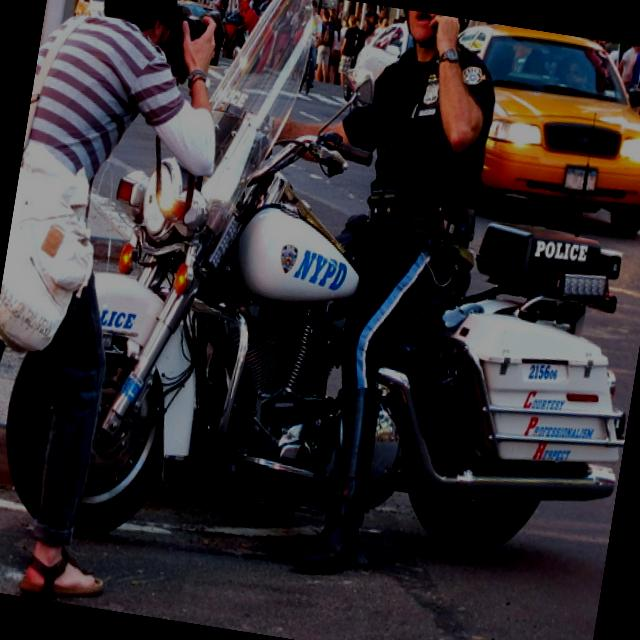Vehicle: (52, 0, 640, 620), (431, 18, 640, 241), (338, 15, 418, 114), (176, 0, 216, 21), (73, 0, 109, 22)
